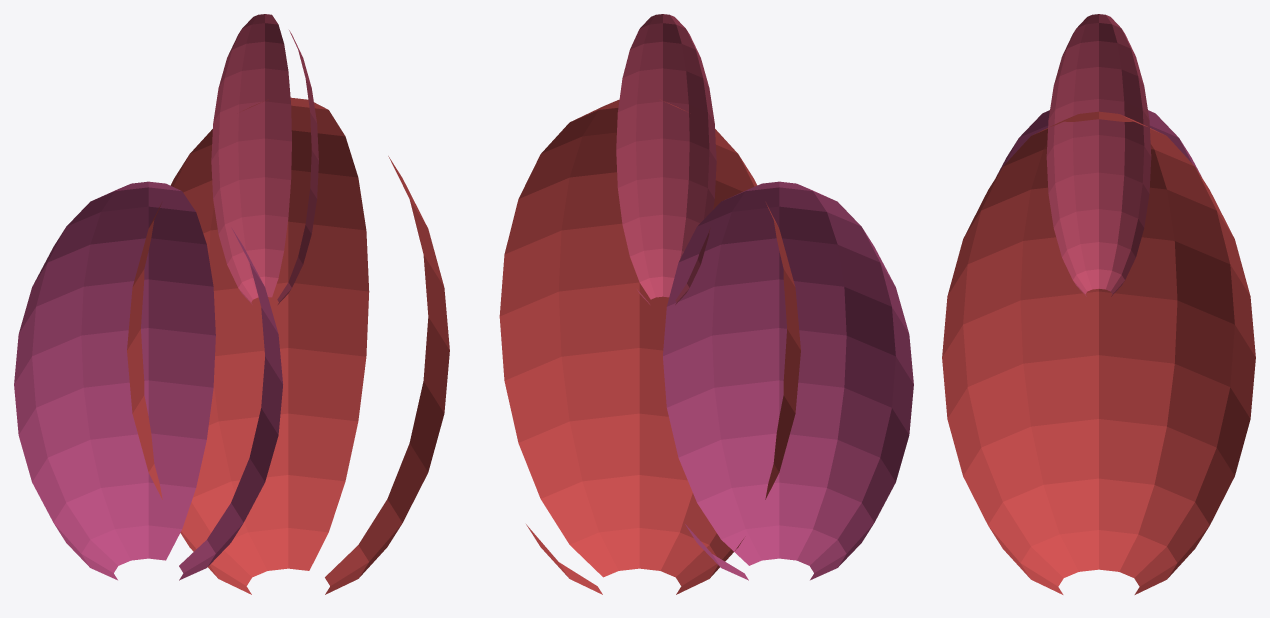
File: heart.glb
3 views of the same model, side by side, from view 1: azimuth 30°, elevation 25°; view 2: azimuth 150°, elevation 25°; view 3: azimuth 270°, elevation 25° (orthographic). The views are drawn at different scales.
Bounding box in the file's own units: 0.85 × 1.18 × 0.6.
